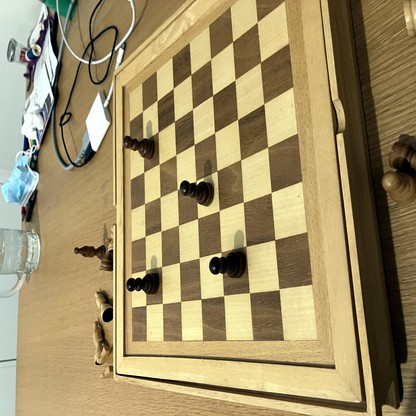bishop_black: (74, 245, 106, 258)
bishop_white: (93, 322, 106, 364)
knight_white: (97, 347, 115, 365), (101, 367, 115, 380)
pawn_black: (211, 252, 246, 277), (180, 181, 214, 204), (122, 137, 155, 159), (127, 276, 159, 294)
pawn_white: (382, 170, 414, 204)
queen_white: (96, 291, 114, 323)
rock_black: (388, 143, 416, 169)
